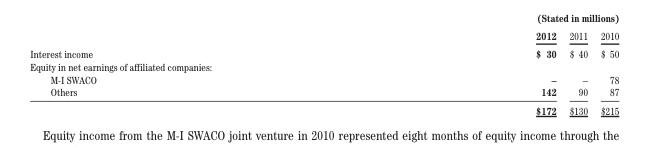table: (29, 28, 618, 115)
table column: (29, 28, 315, 115), (315, 28, 562, 115), (562, 28, 593, 115), (593, 28, 618, 115)
table column header: (29, 28, 618, 43)
table projected row header: (29, 59, 618, 72)
table row: (29, 43, 618, 59), (29, 28, 618, 43), (29, 85, 618, 100), (29, 100, 618, 115), (29, 59, 618, 72), (29, 72, 618, 85)
